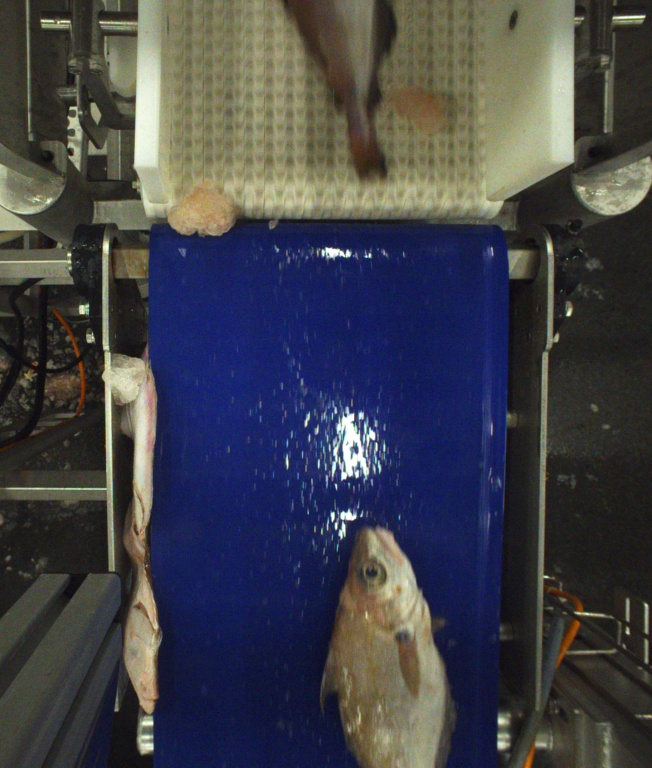BIB: (321, 528, 459, 768)
